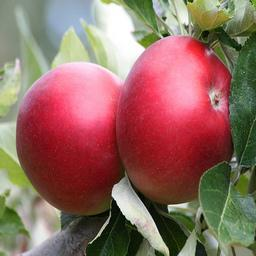apple: (117, 36, 233, 205), (16, 62, 126, 215)
